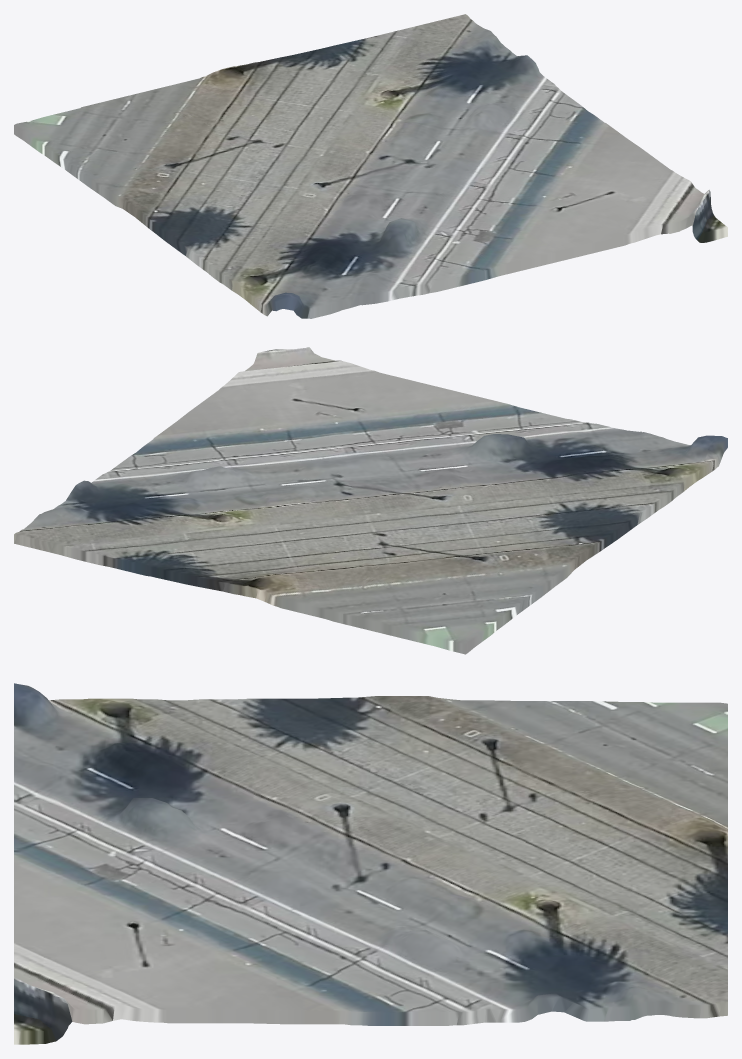
The model's file is z20-167795-405228-h0-yup-uvflip-v3-world.glb.
3 renders of one model, top to bottom at view 1: azimuth 30°, elevation 25°; view 2: azimuth 150°, elevation 25°; view 3: azimuth 270°, elevation 25°, orthographic. The views are drawn at different scales.
Bounding box in the file's own units: 30.16 × 2.96 × 30.32.
Materials: 1 (1 with a texture image).
